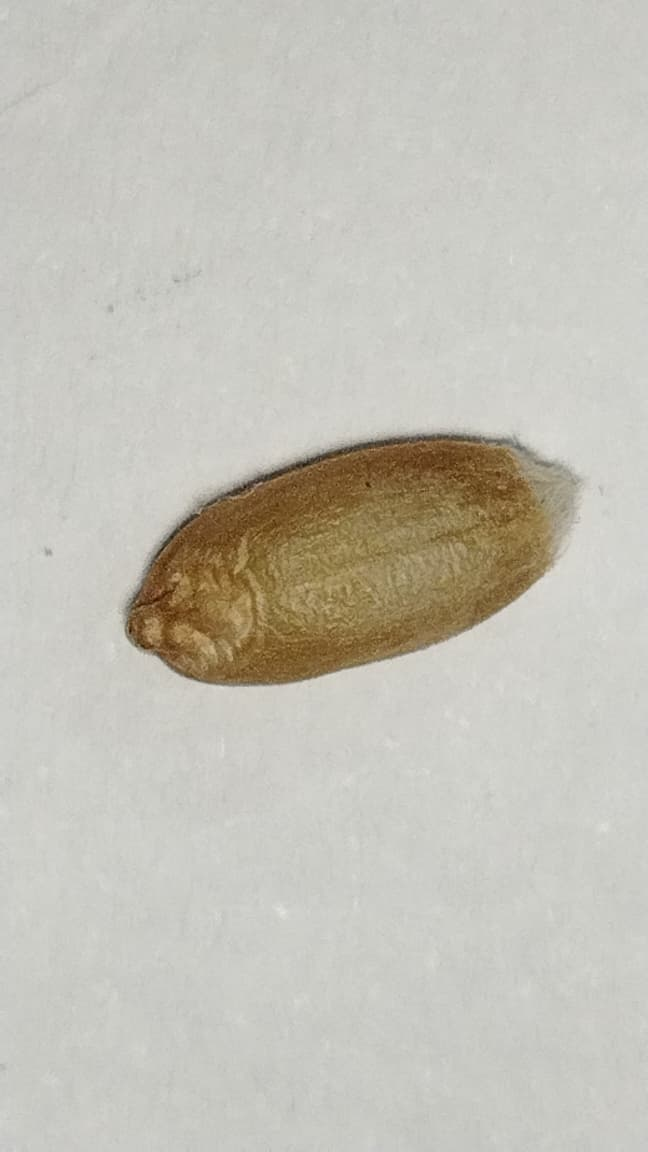healthy: (127, 431, 581, 683)
